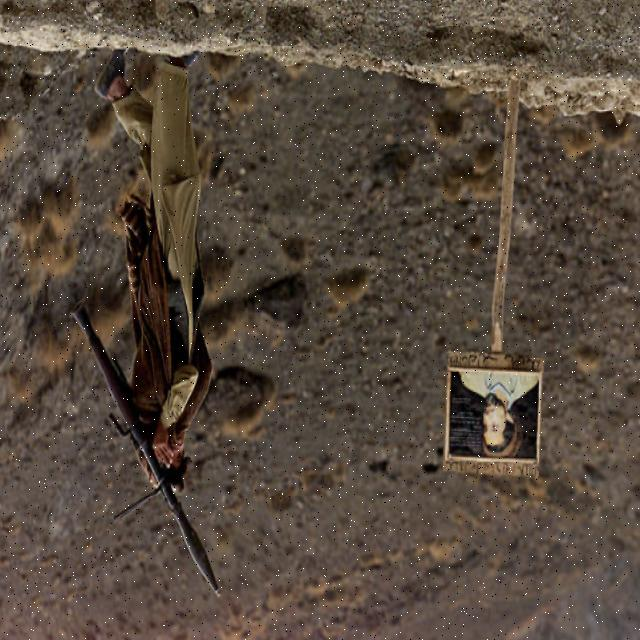bazooka: (66, 290, 227, 606)
